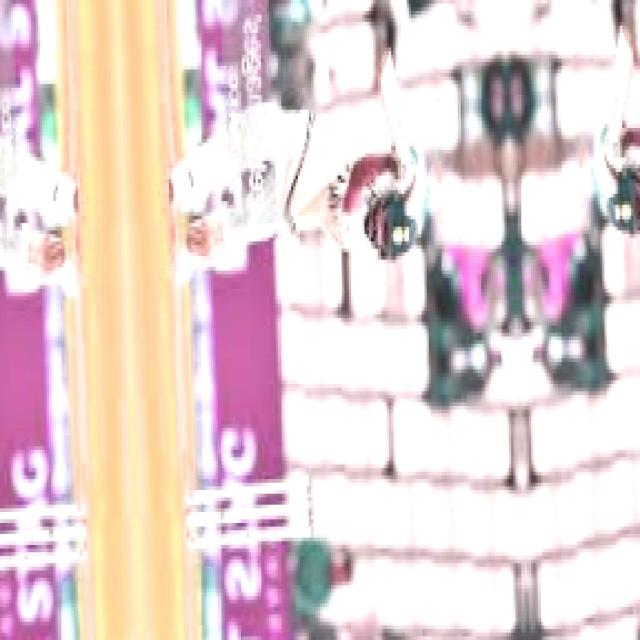toe: (373, 29, 399, 107)
